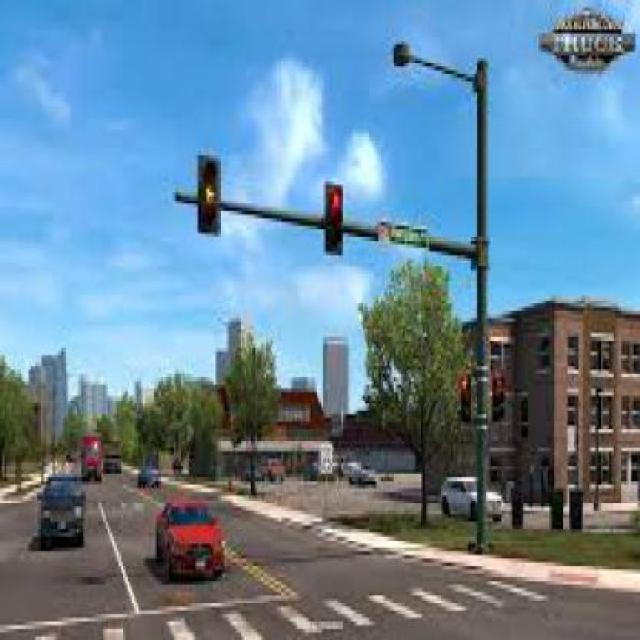red_light: (318, 182, 346, 252), (448, 361, 472, 430)
